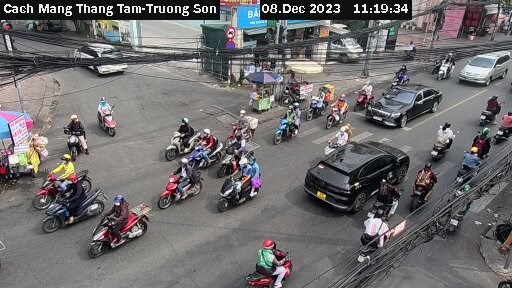car: (303, 140, 406, 210), (367, 80, 443, 128), (74, 39, 129, 78), (460, 49, 510, 87)
motorbike: (88, 212, 154, 254), (245, 244, 308, 288), (43, 192, 113, 228), (212, 167, 270, 208), (26, 168, 103, 198), (159, 167, 211, 210), (348, 219, 390, 269), (273, 105, 310, 150), (366, 178, 405, 220), (58, 119, 96, 161), (87, 97, 129, 134), (219, 114, 261, 149), (403, 167, 440, 205), (317, 99, 357, 130), (297, 87, 336, 118), (164, 126, 200, 159), (462, 130, 501, 160), (427, 124, 463, 156), (314, 130, 352, 160), (345, 78, 376, 112), (214, 142, 251, 170), (380, 62, 412, 91), (187, 139, 220, 167), (469, 99, 499, 126), (430, 54, 455, 80), (496, 116, 512, 137)
